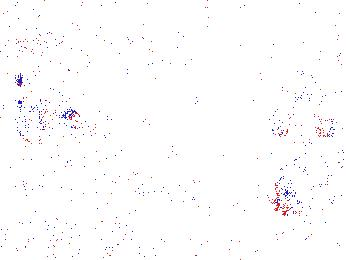flame jellyfish: (14, 94, 79, 147), (264, 63, 307, 139), (272, 156, 324, 218)
